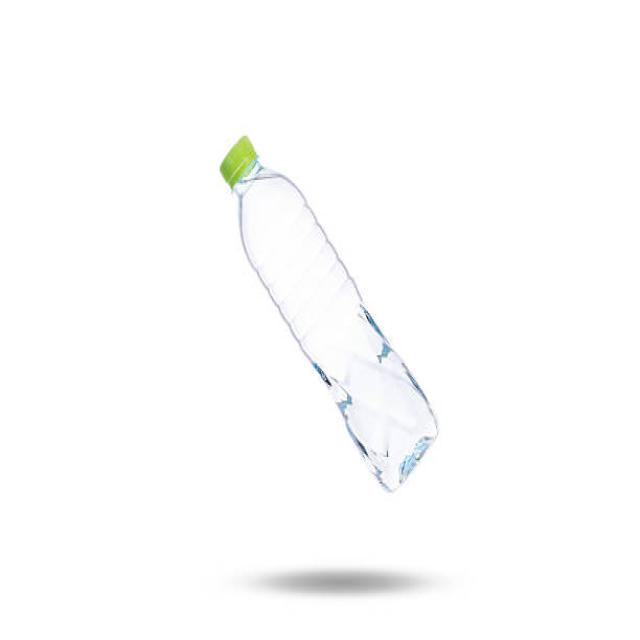bottle: (205, 132, 439, 502)
